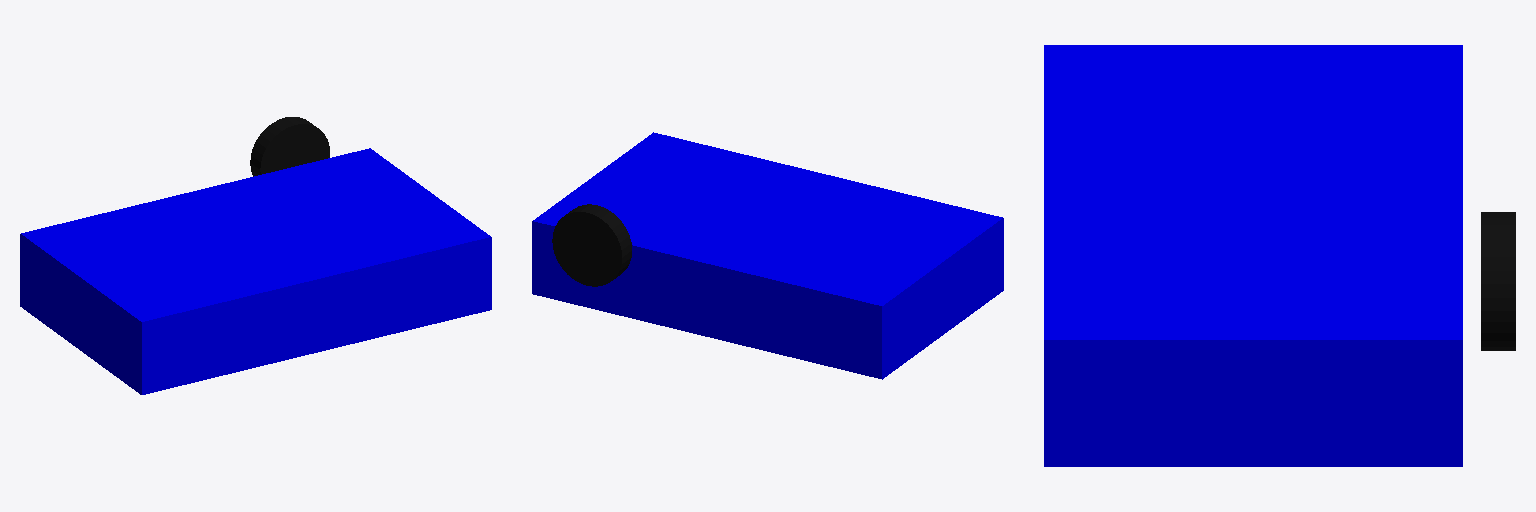
The robot description file, URDF, robot "simple_car":
<?xml version="1.0"?>
<robot name="simple_car">

  <!-- Chassis Link -->
  <link name="chassis">
    <visual>
      <geometry>
        <box size="1.0 0.6 0.2"/>
      </geometry>
      <material name="blue">
        <color rgba="0.0 0.0 1.0 1.0"/>
      </material>
    </visual>
    <collision>
      <geometry>
        <box size="1.0 0.6 0.2"/>
      </geometry>
    </collision>
    <inertial>
      <mass value="10.0"/>
      <inertia ixx="1.0" ixy="0.0" ixz="0.0" iyy="1.0" iyz="0.0" izz="1.0"/>
    </inertial>
  </link>

  <!-- Add a Gazebo tag to give the chassis color -->
  <gazebo reference="chassis">
    <material>Gazebo/Blue</material>
  </gazebo>

  <!-- Wheel Links (Just one for this example to keep it simple) -->
  <link name="front_left_wheel">
    <visual>
      <origin xyz="0 0 0" rpy="1.5707 0 0"/>
      <geometry>
        <cylinder radius="0.1" length="0.05"/>
      </geometry>
      <material name="black">
        <color rgba="0.1 0.1 0.1 1.0"/>
      </material>
    </visual>
    <collision>
      <origin xyz="0 0 0" rpy="1.5707 0 0"/>
      <geometry>
        <cylinder radius="0.1" length="0.05"/>
      </geometry>
    </collision>
    <inertial>
      <mass value="1.0"/>
      <inertia ixx="0.1" ixy="0.0" ixz="0.0" iyy="0.1" iyz="0.0" izz="0.1"/>
    </inertial>
  </link>

  <!-- Wheel Joint -->
  <joint name="front_left_wheel_joint" type="continuous">
    <parent link="chassis"/>
    <child link="front_left_wheel"/>
    <origin xyz="0.3 0.35 0.1" rpy="0 0 0"/>
    <axis xyz="0 1 0"/>
  </joint>

  <!-- ROS2 Control Plugin for Gazebo -->
  <gazebo>
    <plugin name="gazebo_ros2_control" filename="libgazebo_ros2_control.so">
      <robot_param>robot_description</robot_param>
      <robot_param_node>robot_state_publisher</robot_param_node>
    </plugin>
  </gazebo>

  <!-- Add the Diff Drive plugin inside the URDF -->
  <gazebo reference="chassis">
    <plugin name="gazebo_ros_diff_drive" filename="libgazebo_ros_diff_drive.so">
        <ros>
          <namespace>/my_car</namespace>
        </ros>
        <left_joint>front_left_wheel_joint</left_joint> <!-- Add more here for a real robot -->
        <right_joint>front_left_wheel_joint</right_joint> <!-- Placeholder -->
        <wheel_separation>0.7</wheel_separation>
        <wheel_diameter>0.2</wheel_diameter>
        <publish_odom>true</publish_odom>
        <publish_tf>true</publish_tf>
        <odometry_frame>odom</odometry_frame>
        <robot_base_frame>chassis</robot_base_frame>
    </plugin>
  </gazebo>

</robot>

--- What the picture shows (computed from the rendered views, not written in the file) ---
3 views of the same robot in one strip: view 1: azimuth 30°, elevation 25°; view 2: azimuth 150°, elevation 25°; view 3: azimuth 270°, elevation 25° (orthographic).
Robot: simple_car — 2 links, 1 joints (1 continuous); root link chassis; default pose: every joint at zero.
Visible links, largest first — view 1: chassis, front_left_wheel; view 2: chassis, front_left_wheel; view 3: chassis, front_left_wheel.
Boxes of the visible links, x1,y1,x2,y2 form: chassis: (20, 148, 491, 394); front_left_wheel: (250, 117, 329, 176); chassis: (532, 132, 1003, 379); front_left_wheel: (552, 204, 631, 286); chassis: (1044, 45, 1462, 466); front_left_wheel: (1481, 212, 1515, 350).
Size in the robot's own frame: 1 by 0.675 by 0.3 metres.
Geometry: primitives only (box / cylinder / sphere), no mesh files.
